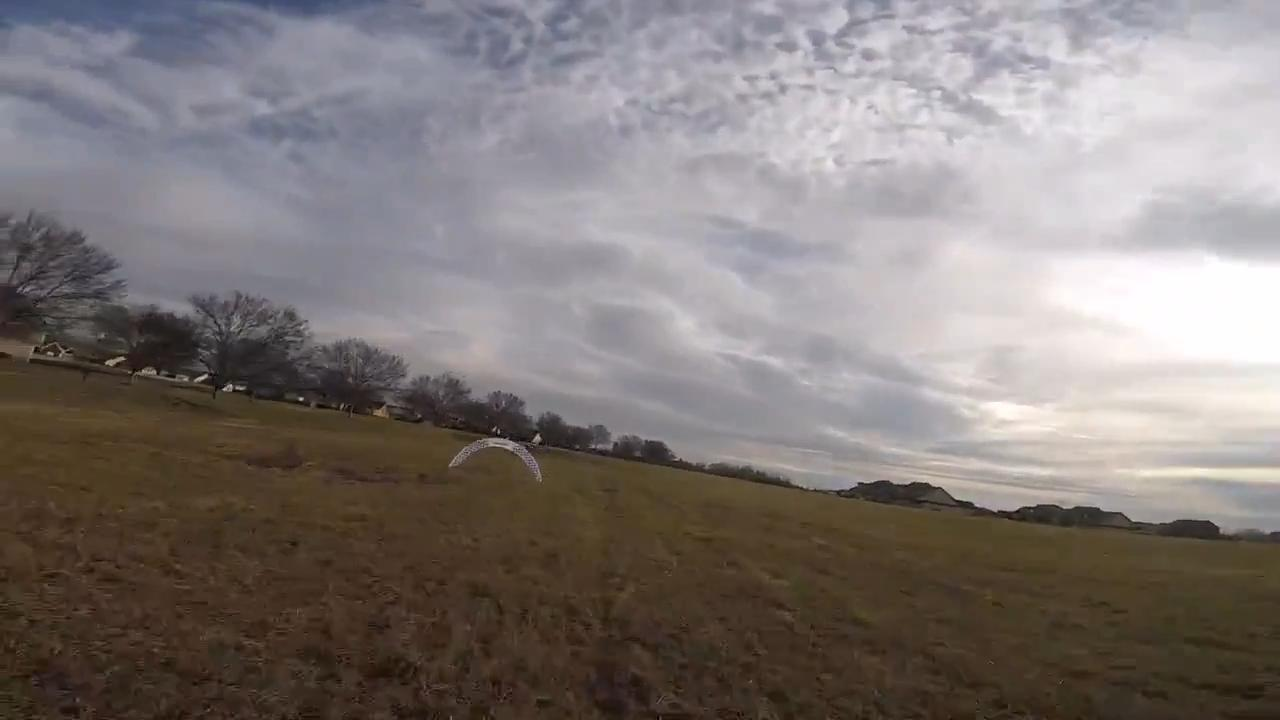gate: (447, 434, 541, 487)
